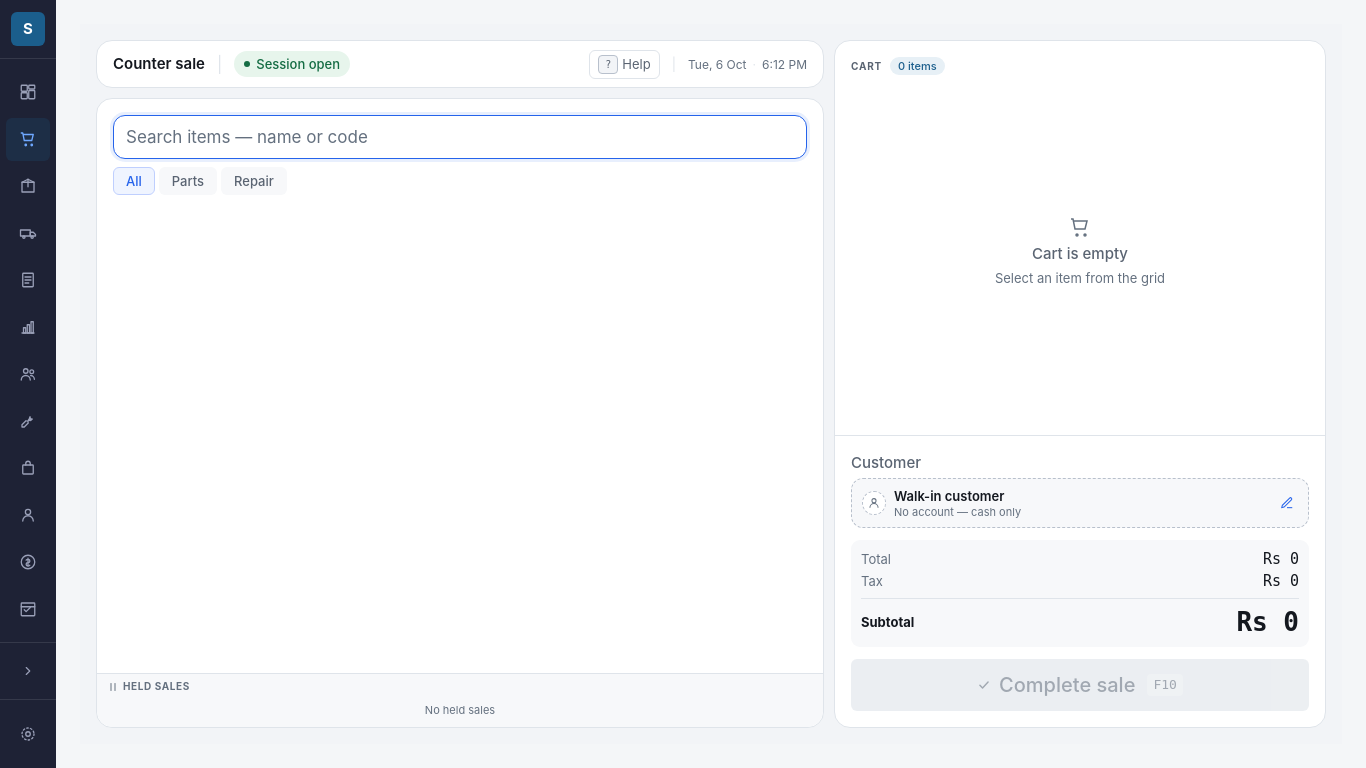
Scenario: App — Dashboard low-stock widget navigates to Items with the filter pre-applied › clicking the widget opens Items with the "Low stock only" checkbox already checked
Step 1. Click the button named "Dashboard" → (28, 92), box [6,71,50,114]
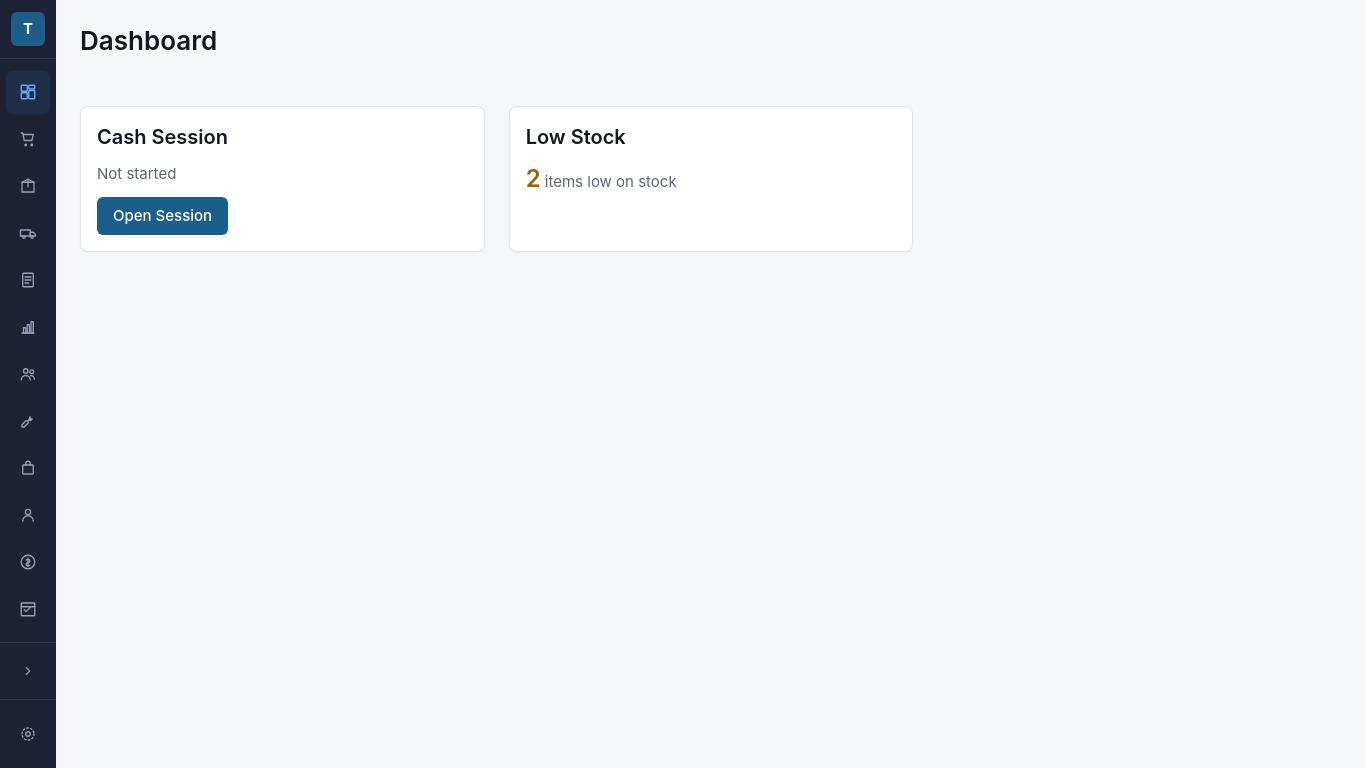
Step 2. Click the button "2 items low on stock" → (601, 179), box [526,163,677,195]
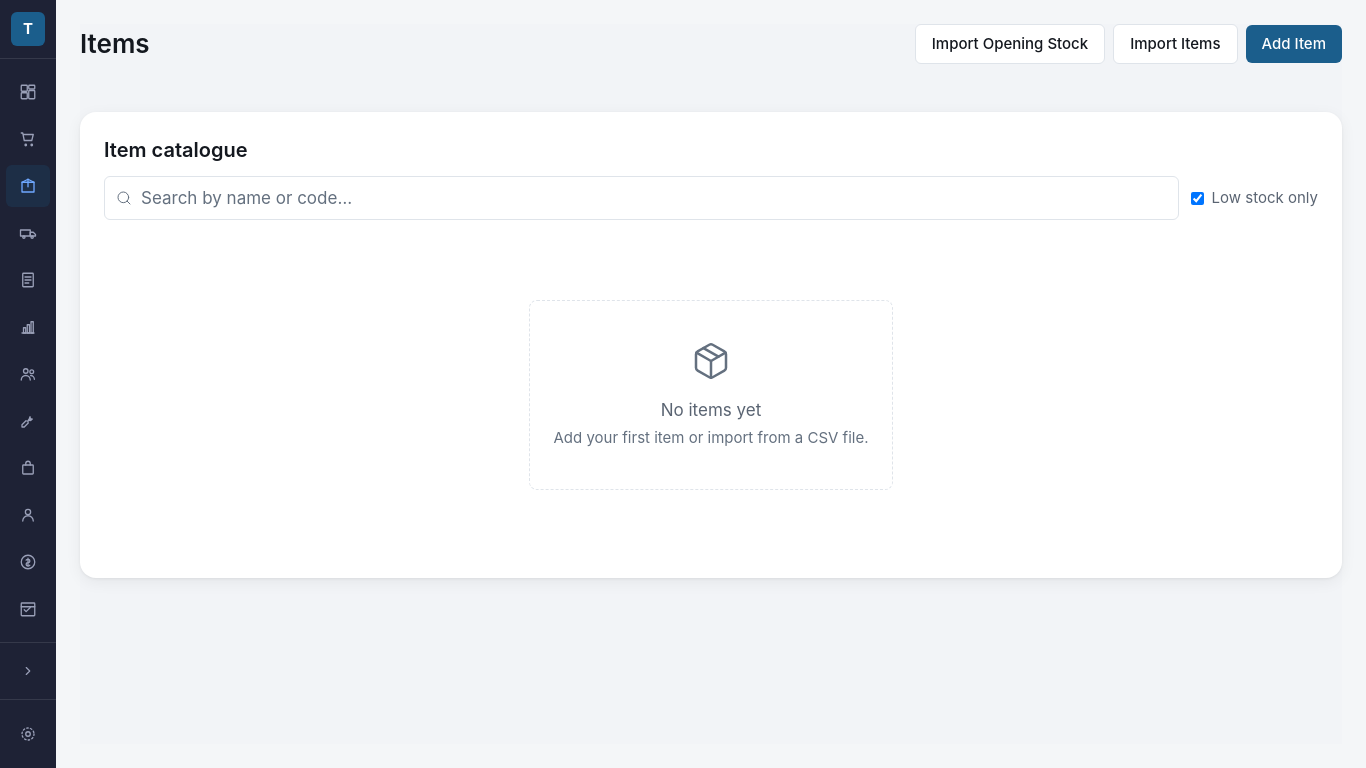
Expected: the checkbox labelled "Low stock only" is checked, [1191,192,1204,204]
